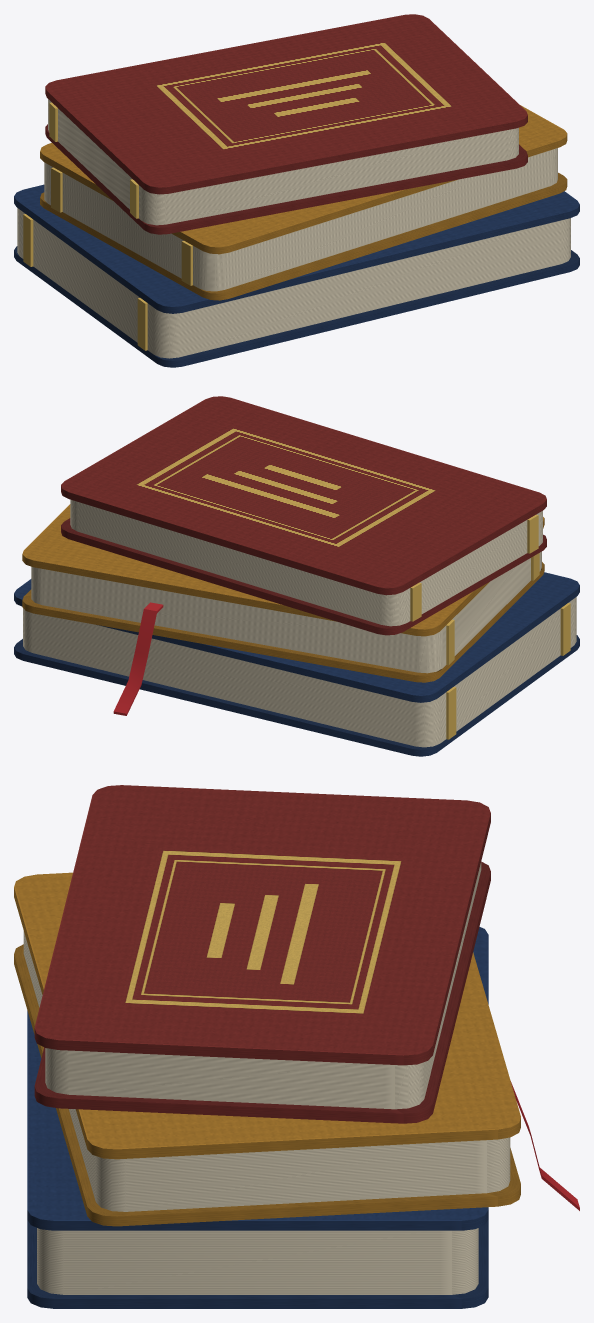
Rendered from desk-books.glb.
The picture shows the model from 3 angles, top to bottom: view 1: azimuth 30°, elevation 25°; view 2: azimuth 150°, elevation 25°; view 3: azimuth 270°, elevation 25°; orthographic projection. The views are drawn at different scales.
Parts seen in each view (by area): view 1: desk-books; view 2: desk-books; view 3: desk-books.
Part boxes in pixels (left/top/right/bottom): desk-books: left=14, top=14, right=579, bottom=367; desk-books: left=14, top=396, right=579, bottom=756; desk-books: left=14, top=785, right=579, bottom=1308.
Size of the model in its own units: 59.47 by 21.3 by 46.63.
1 material, 1 textured.
